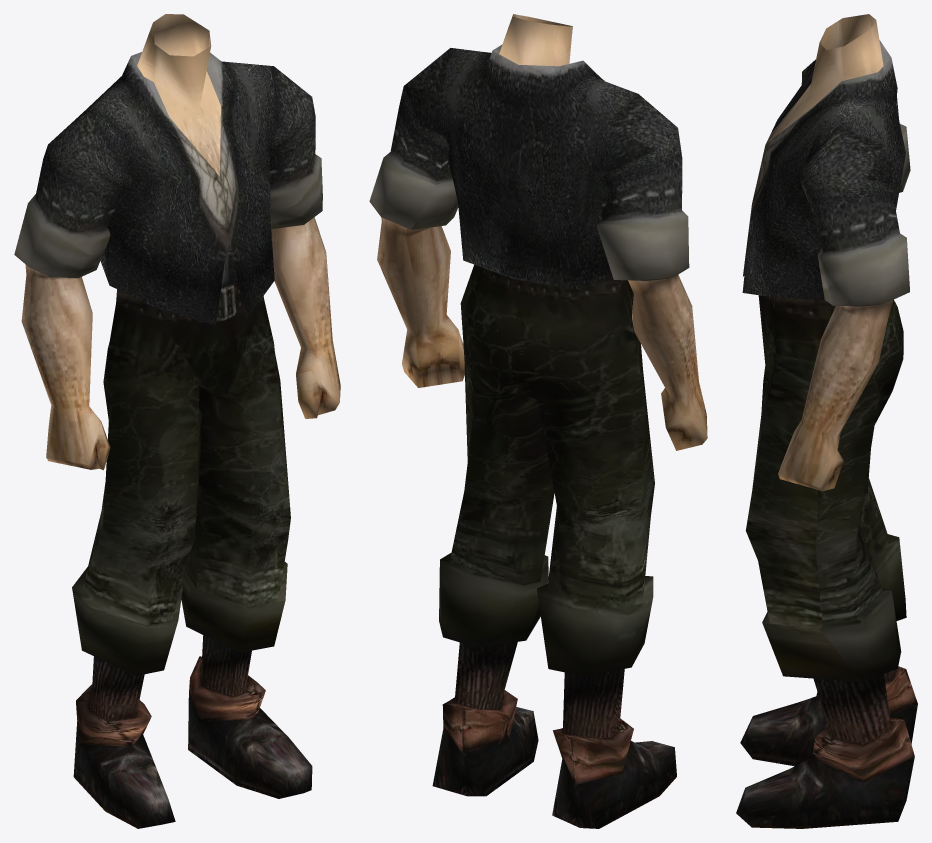
The model's file is KM_BAU_L_JORN.glb.
3 renders of one model, left to right at view 1: azimuth 30°, elevation 25°; view 2: azimuth 150°, elevation 25°; view 3: azimuth 270°, elevation 25°, orthographic. The views are drawn at different scales.
Visible parts, largest first — view 1: KM_BAU_L_JORN; view 2: KM_BAU_L_JORN; view 3: KM_BAU_L_JORN.
Boxes of the visible parts, x1=… form: KM_BAU_L_JORN: x1=14, y1=14, x2=340, y2=828; KM_BAU_L_JORN: x1=369, y1=14, x2=707, y2=828; KM_BAU_L_JORN: x1=736, y1=14, x2=917, y2=828.
Size of the model in its own units: 0.6885 by 1.68 by 0.3618.
Materials: 2 (2 with a texture image).
